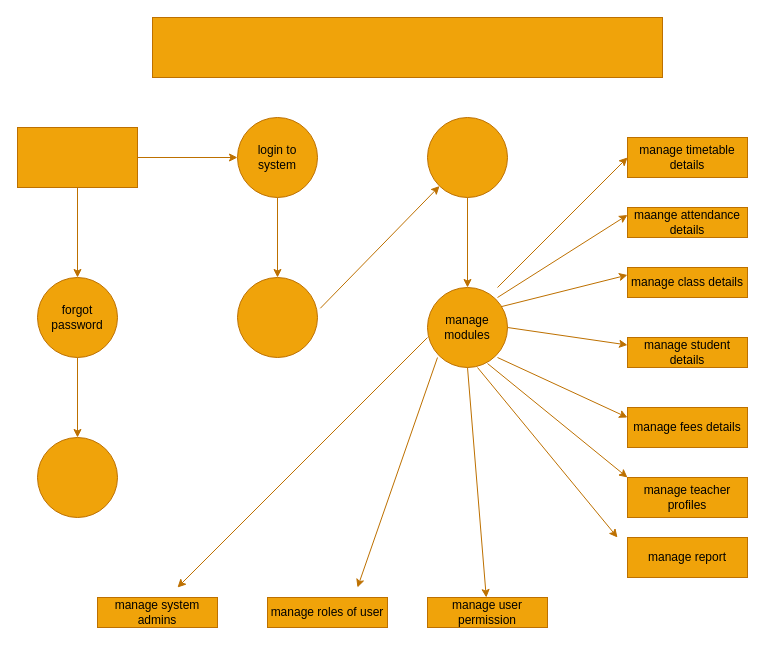
The diagram is 765 pixels wide and 645 high, and some of its shapes have lost their labels. The shapes that lost their labels are listed below. From the top down, each one's centre as x and y in pixels, then its label:
pixel 407 47: student information system
pixel 77 157: admin
pixel 467 157: check roles of access
pixel 277 317: check credentials
pixel 77 477: send email to user
